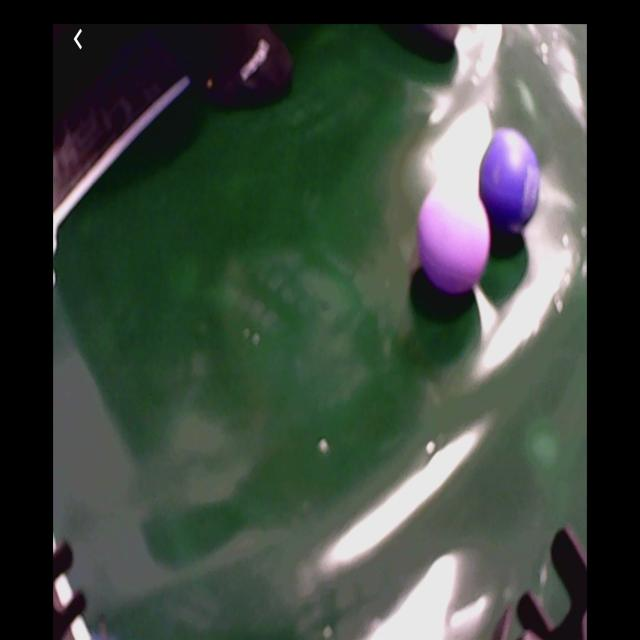ball: (418, 187, 492, 296), (479, 130, 541, 237)
